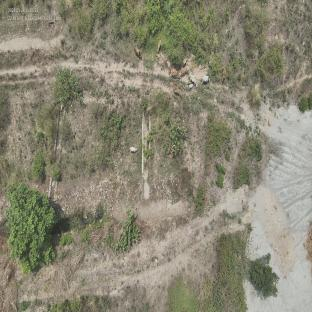slope_drain: (43, 104, 65, 228), (141, 109, 153, 173)
vegetation: (31, 67, 87, 181), (2, 185, 58, 278), (111, 208, 144, 252), (163, 116, 186, 164)
